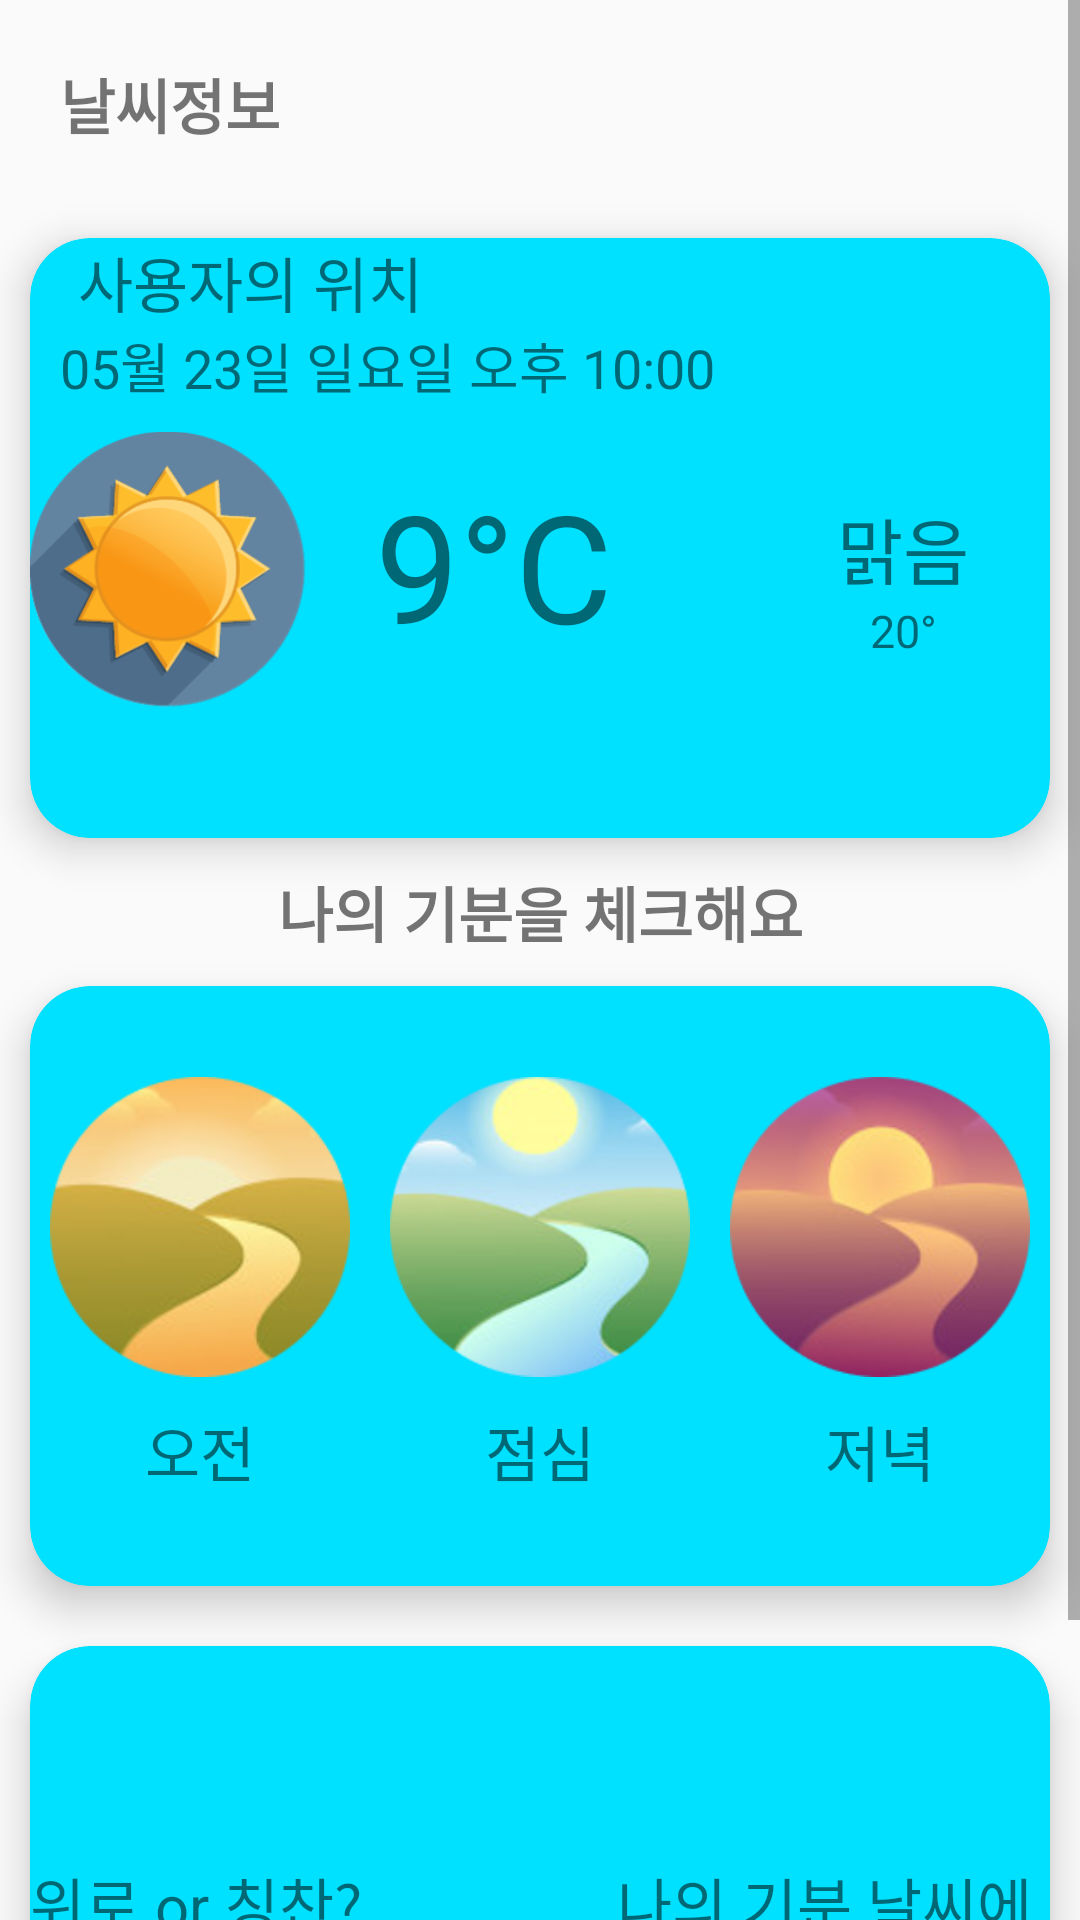

Where icons sit on this 1080w x 1920h app screen, as (x1, y1, x2, y2):
clear: (30, 432, 305, 707)
